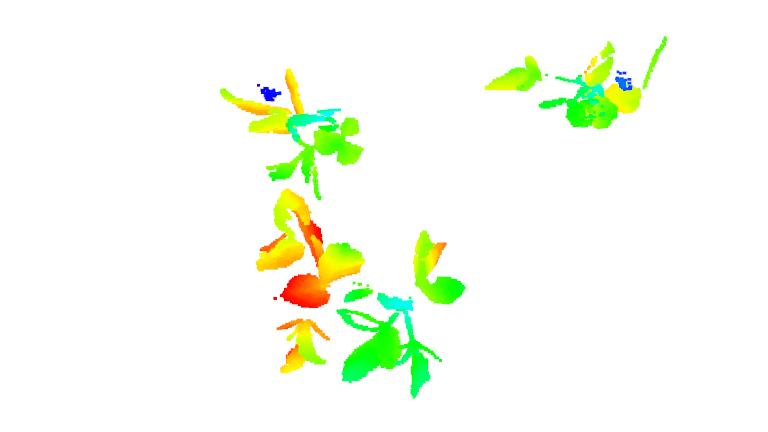mungbean: (335, 228, 472, 392), (252, 186, 369, 375), (216, 65, 360, 190), (483, 35, 643, 135)
